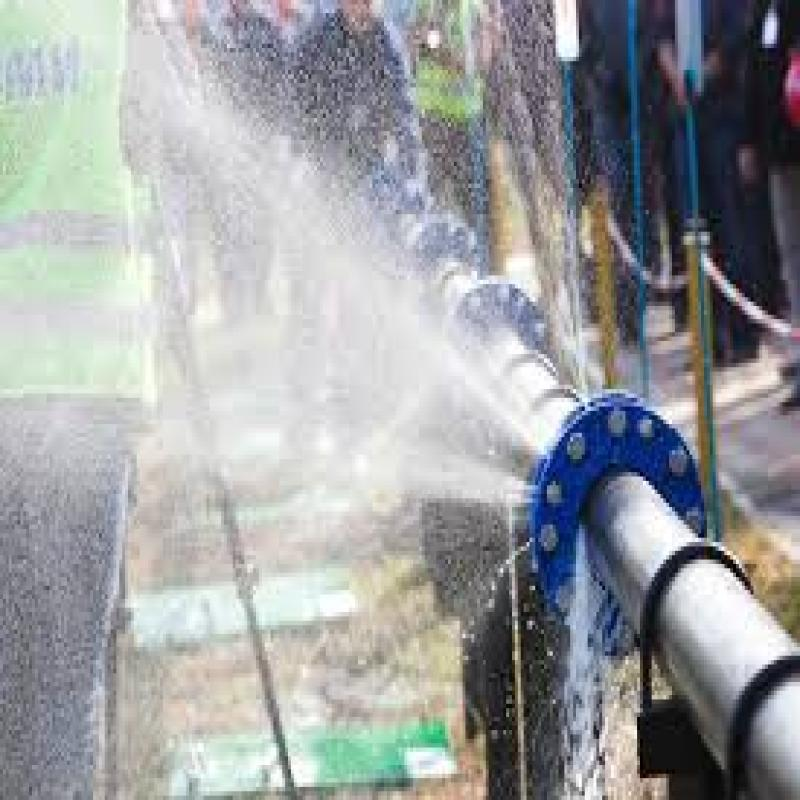Fracture: (351, 265, 703, 690)
